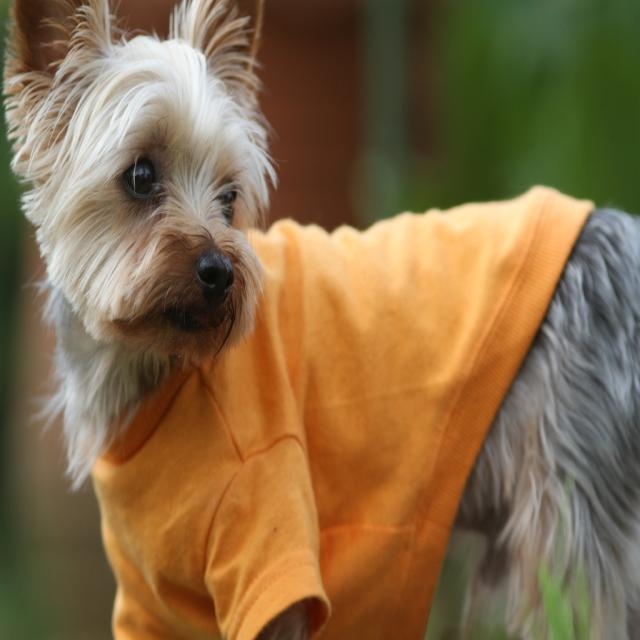Dog: (1, 0, 639, 638)
